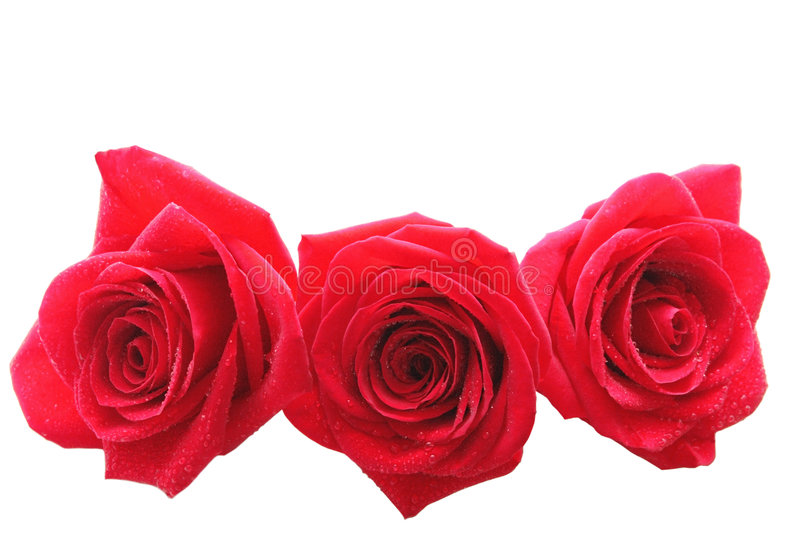RedRose: (53, 163, 277, 458), (300, 212, 519, 489), (538, 202, 764, 437)
